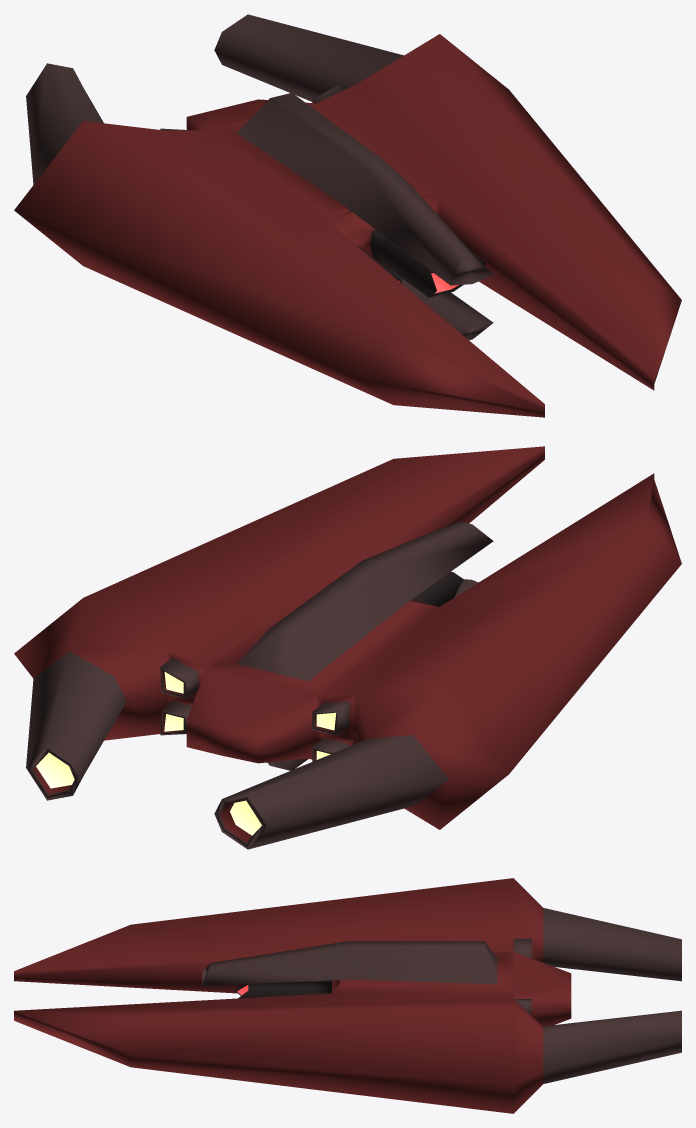
The model's file is Enemy_Fighter_v2.fbx.
The picture shows the model from 3 angles, top to bottom: view 1: azimuth 30°, elevation 25°; view 2: azimuth 150°, elevation 25°; view 3: azimuth 270°, elevation 25°; orthographic projection. The views are drawn at different scales.
Visible parts, largest first — view 1: pCube1; view 2: pCube1; view 3: pCube1.
Part boxes in pixels (x1,y1,x2,y2): pCube1: (14, 14, 681, 417); pCube1: (14, 446, 681, 849); pCube1: (14, 878, 681, 1113).
Bounding box in the file's own units: 3311 × 928 × 5238.
